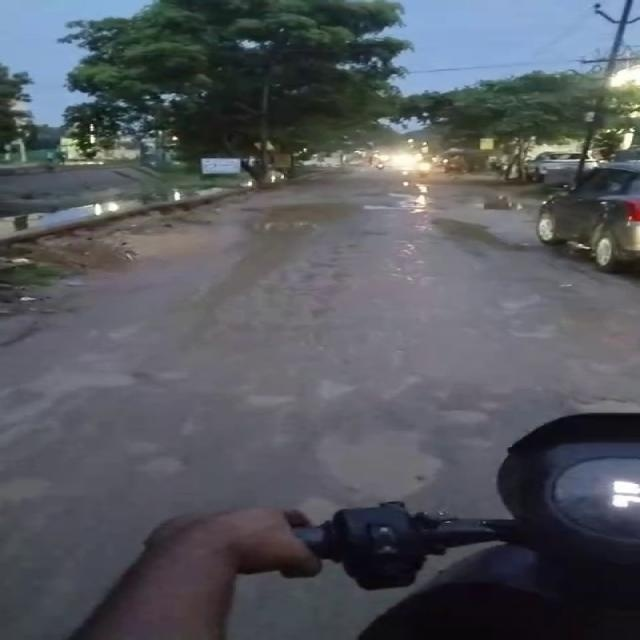pothole: (180, 205, 361, 354), (310, 433, 437, 502), (0, 367, 137, 429), (429, 217, 530, 253), (371, 191, 433, 215), (0, 479, 54, 506), (294, 494, 335, 522), (429, 407, 492, 422), (471, 195, 526, 212), (562, 398, 639, 410), (506, 325, 558, 341), (380, 377, 422, 396), (315, 380, 359, 398), (496, 296, 542, 310), (242, 391, 300, 402), (136, 459, 179, 471), (145, 370, 181, 383), (182, 423, 191, 437), (476, 399, 496, 404)
